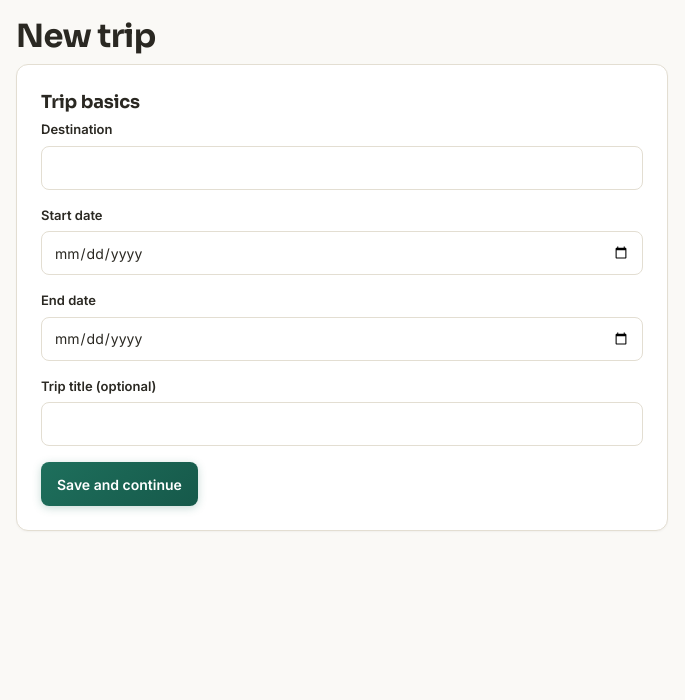
Test: TripWizardPage › saves trip basics and shows the summary
The width and height of the screenshot is (685, 700).
Type "Lisbon" into the field labelled "Destination" at (342, 168), box 41,146 -> 643,190
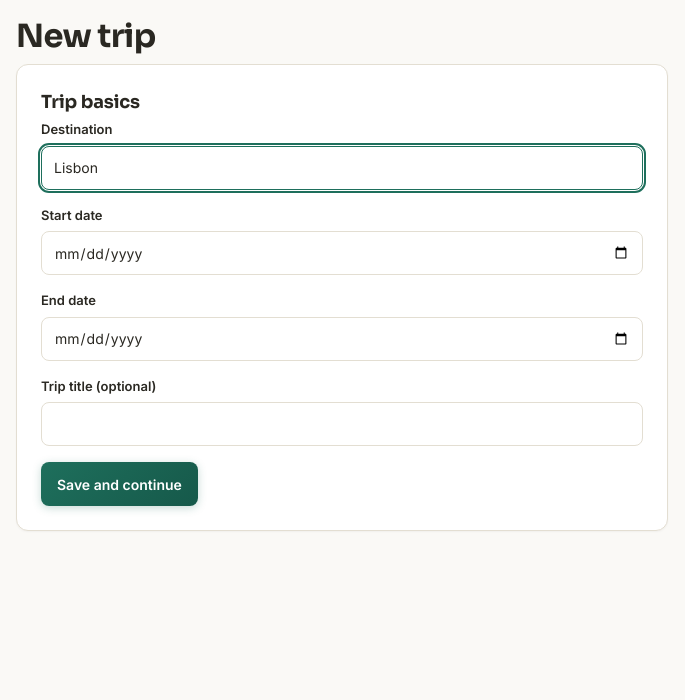
Type "2026-09-01" into the date field labelled "Start date" at (342, 253), box 41,231 -> 643,275
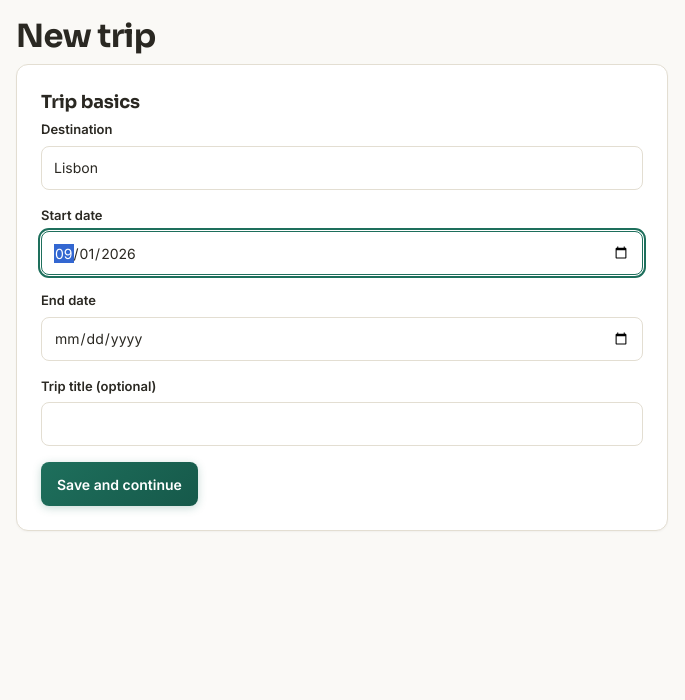
Type "2026-09-05" into the date field labelled "End date" at (342, 338), box 41,316 -> 643,360
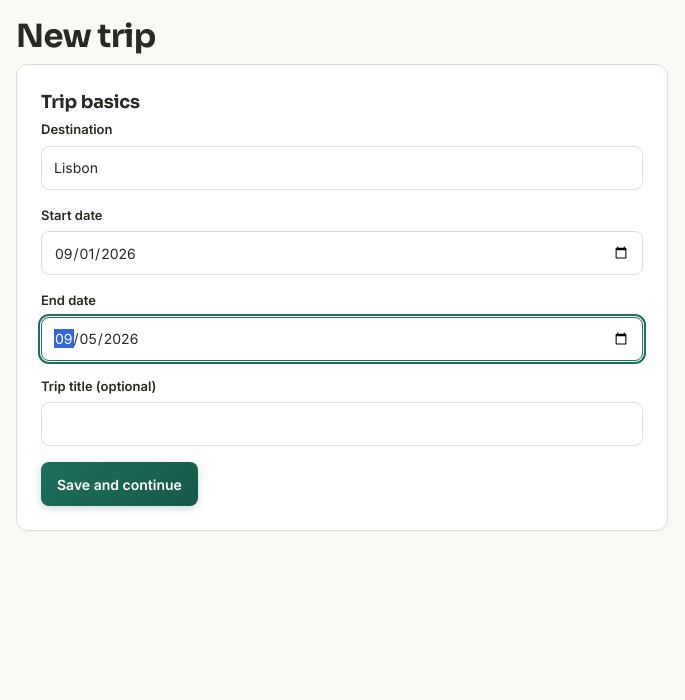
Click the button "Save and continue" at (119, 484), box 41,462 -> 198,506
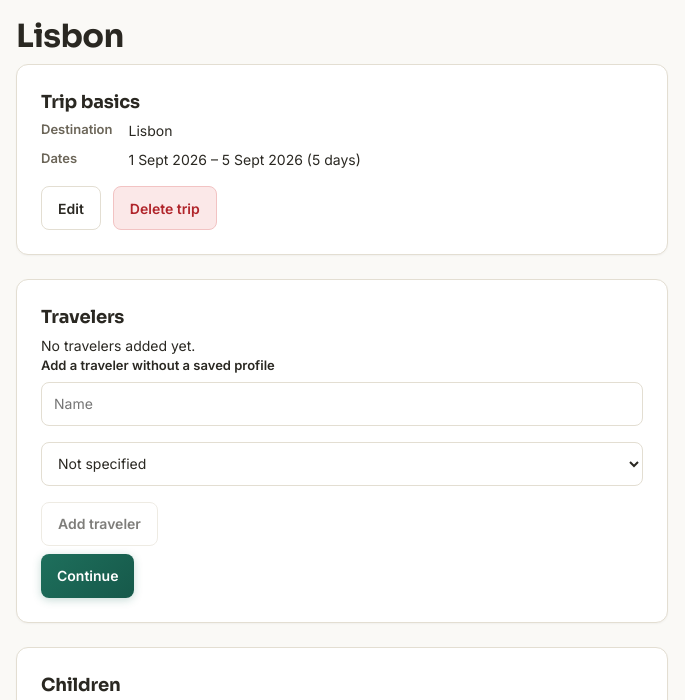
Expected: the heading "Lisbon" is shown, 16,16 -> 124,56
